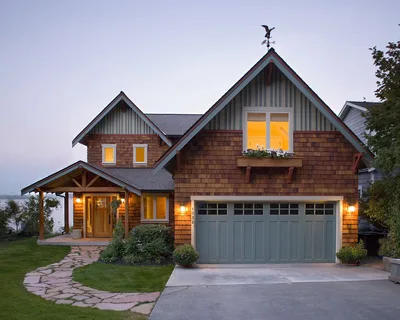private_hause: (103, 90, 370, 259)
